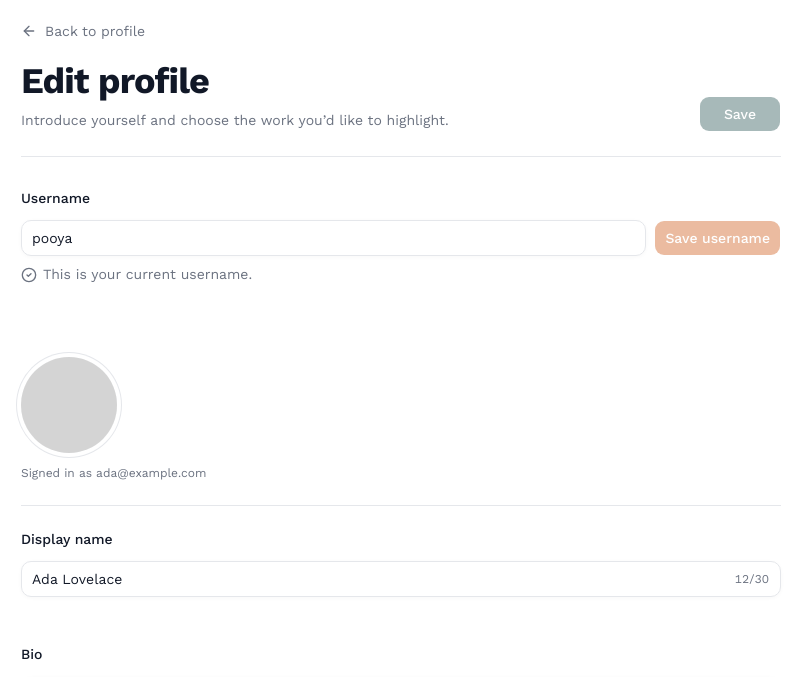
Test: EditProfileRoute › keeps selected work intact when an identity save fails
Type "!" into the field labelled "Display name" at (401, 579), box [21,561,781,597]
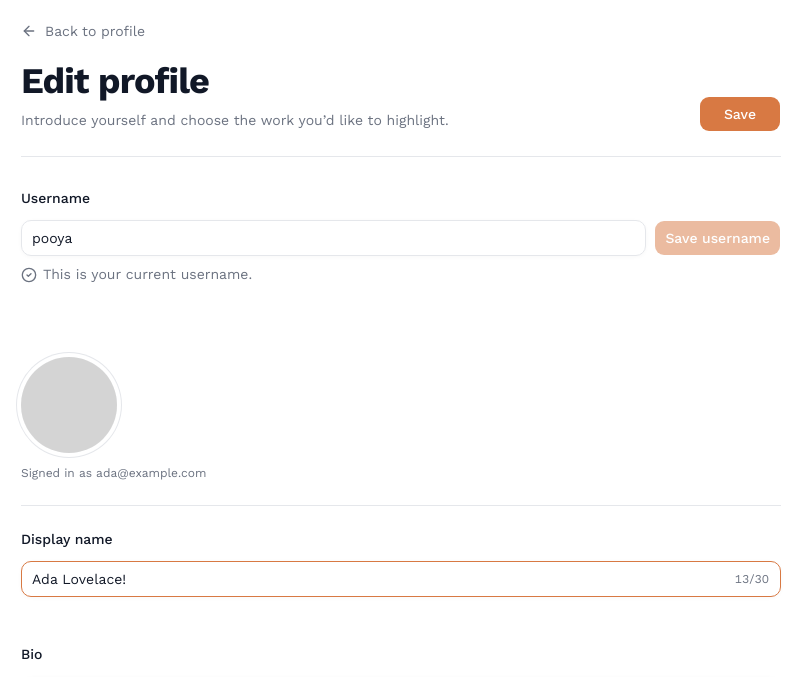
Click the button "Save" at (740, 114), box [699,96,781,132]
(page scrolled)
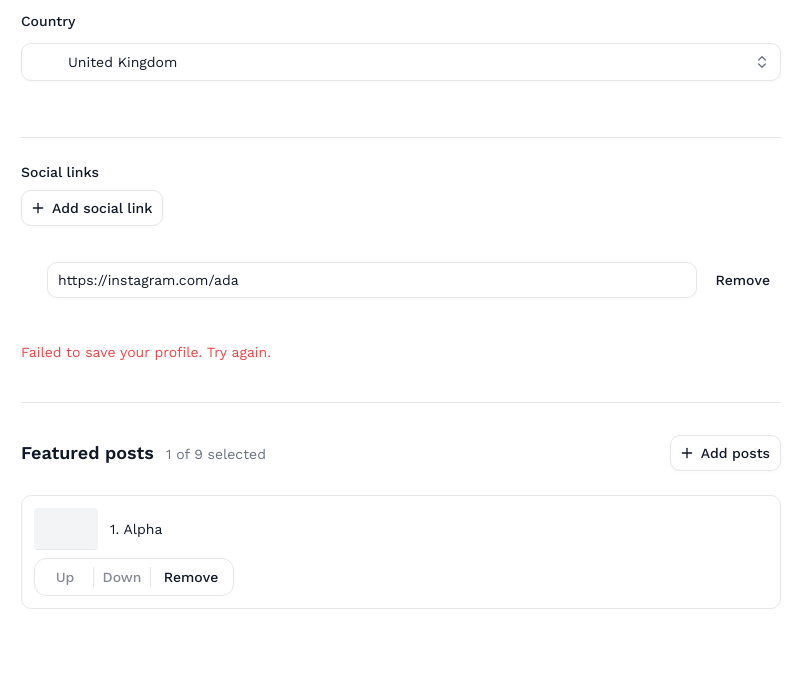
Expected: the button with aria-label "remove alpha" is shown, [151,561,231,593]
Expected: the text "Failed to save your profile. Try again." is shown, [21,344,271,360]
